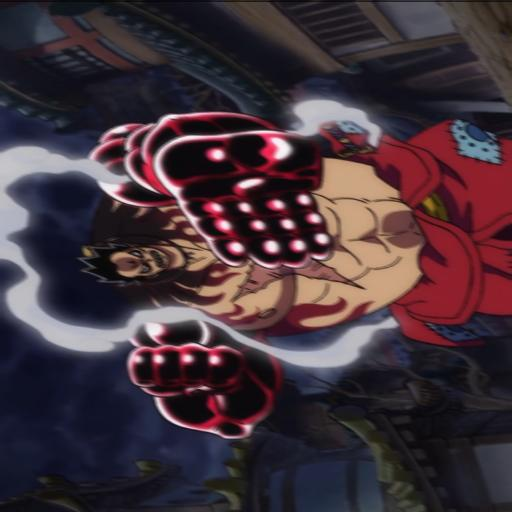Luffy: (19, 79, 512, 432)
